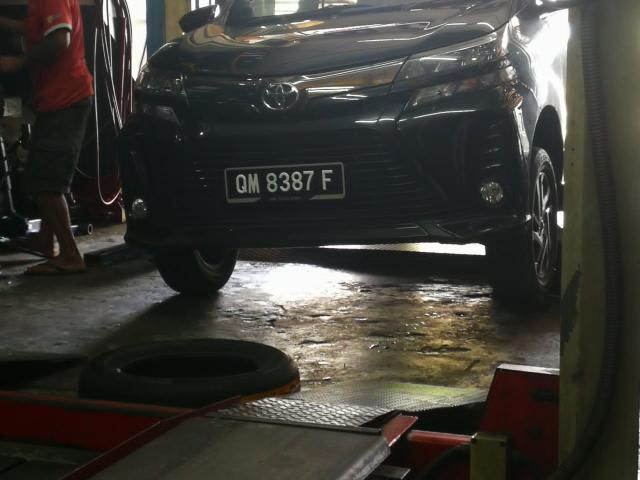License_Plate: (227, 164, 345, 203)
car: (114, 4, 616, 310)
